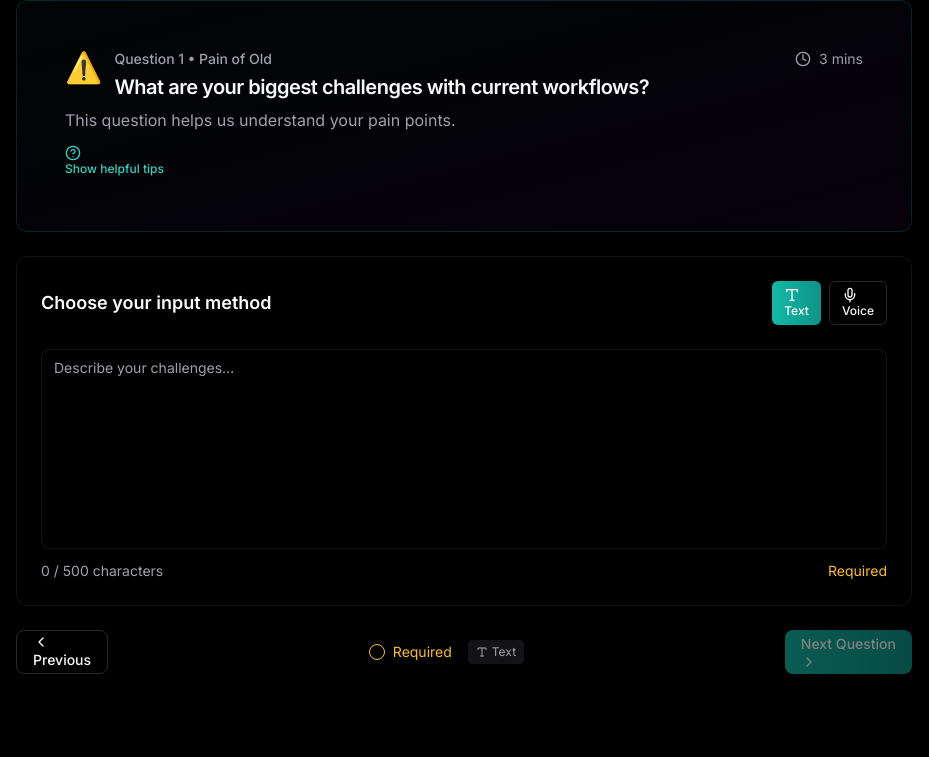
Test: SurveyQuestion Component › Basic Rendering › shows help text when help button is clicked
Click the button "Show helpful tips".
click(114, 161)  # box [65, 139, 164, 183]
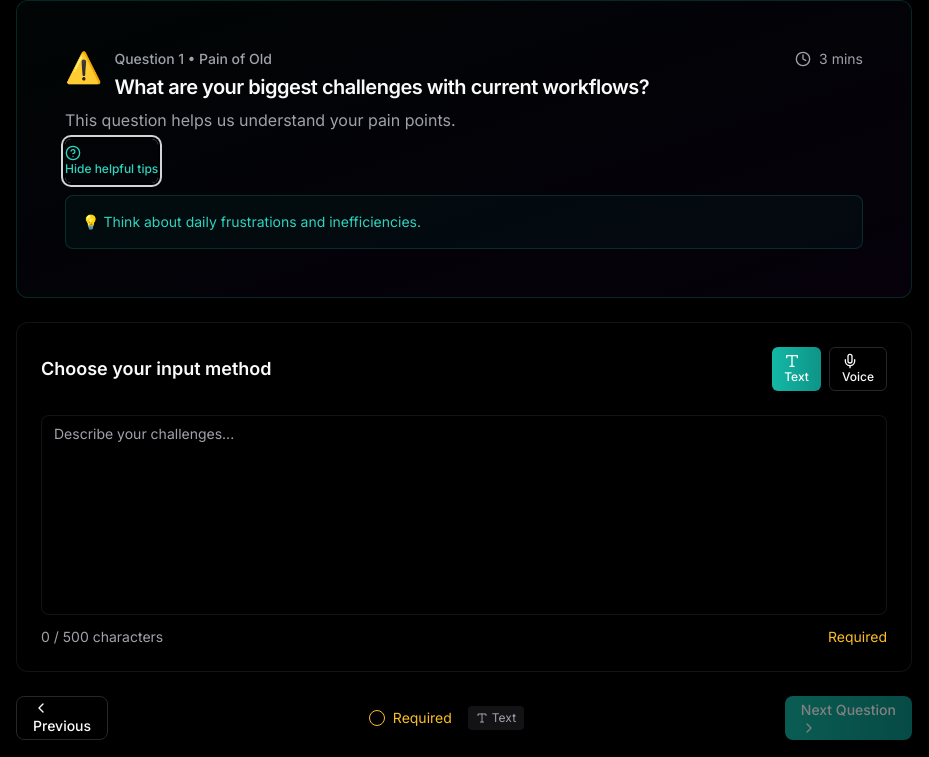
Now the text "💡 Think about daily frustrations and inefficiencies." is shown, box [82, 213, 421, 230]
Now the text "Hide helpful tips" is shown, box [65, 145, 158, 177]
